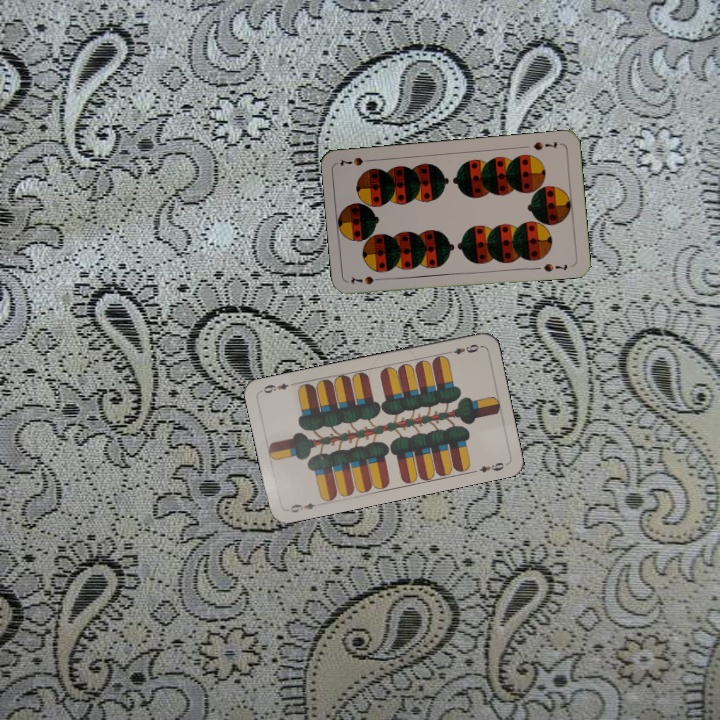E9: (283, 499, 324, 515), (443, 340, 481, 357)
S7: (347, 272, 386, 287), (529, 137, 559, 153)
